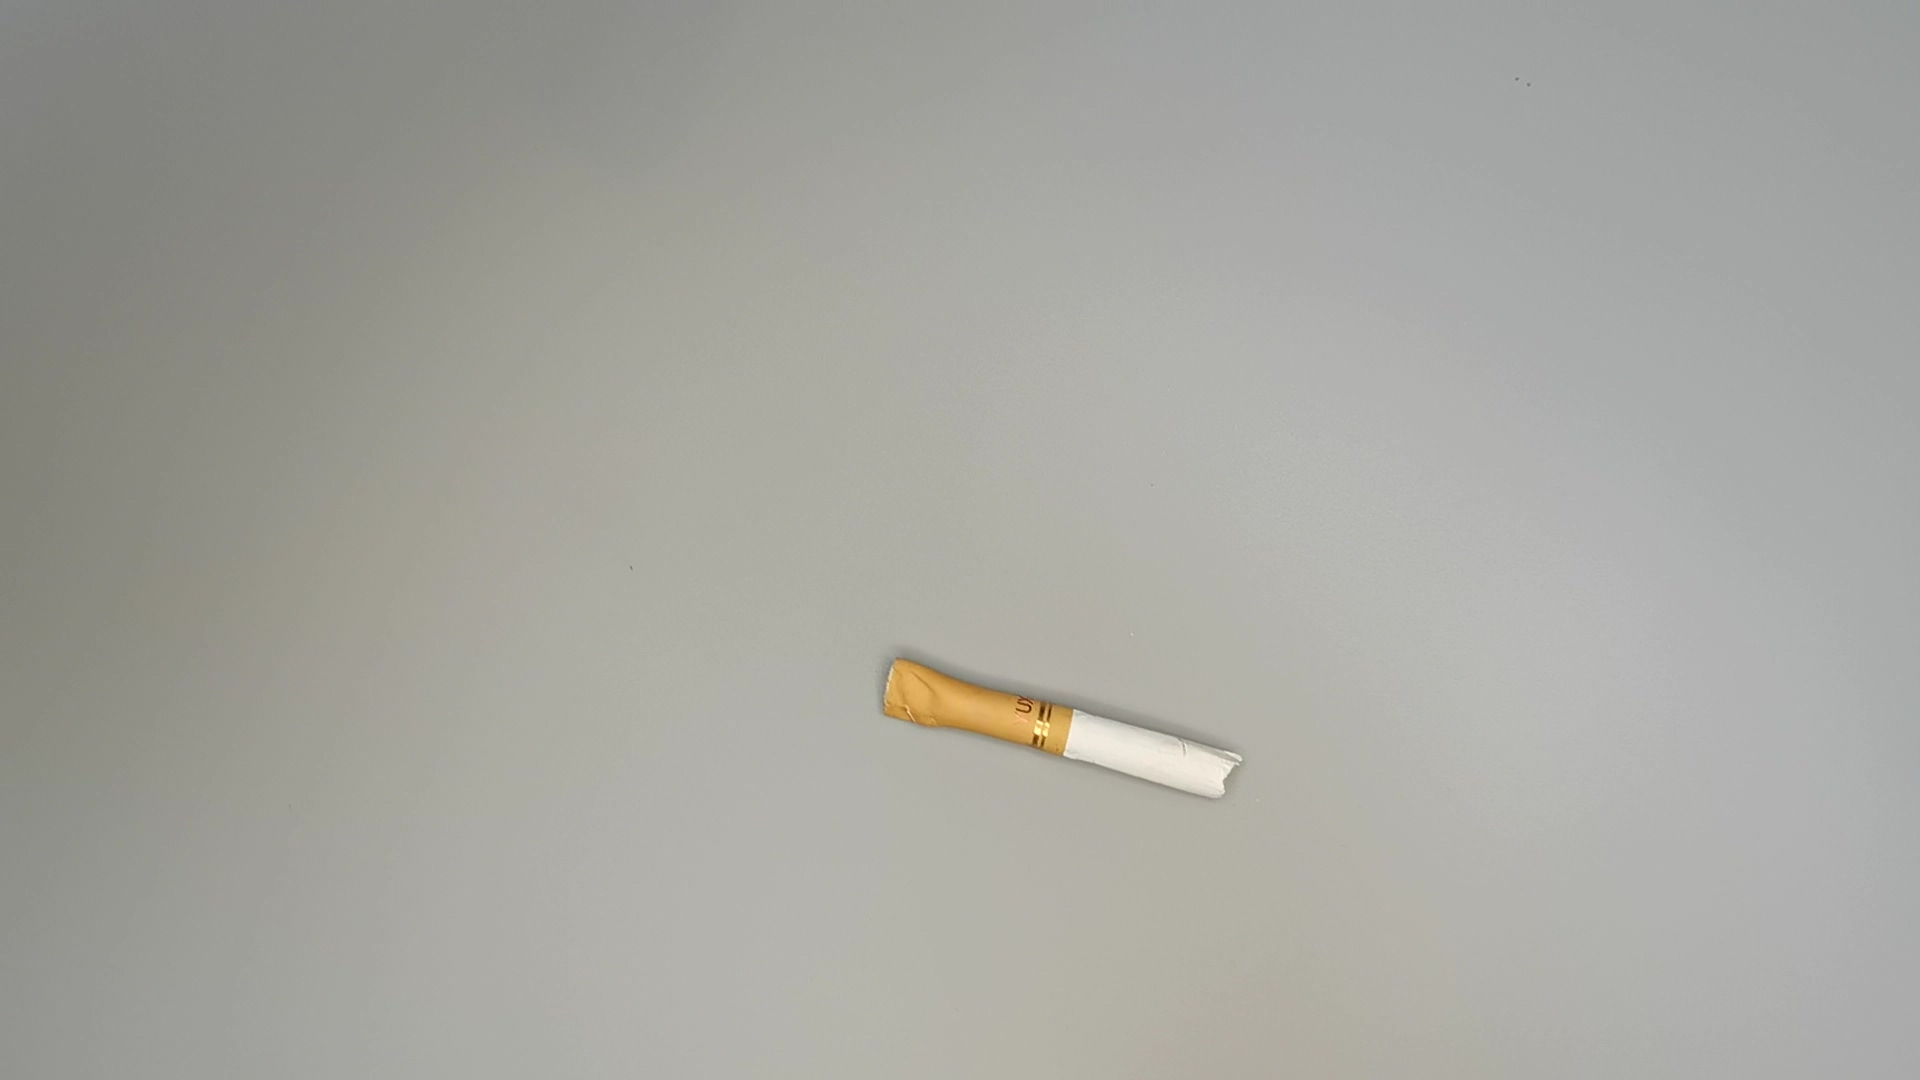cigarette: (870, 654, 1261, 820)
